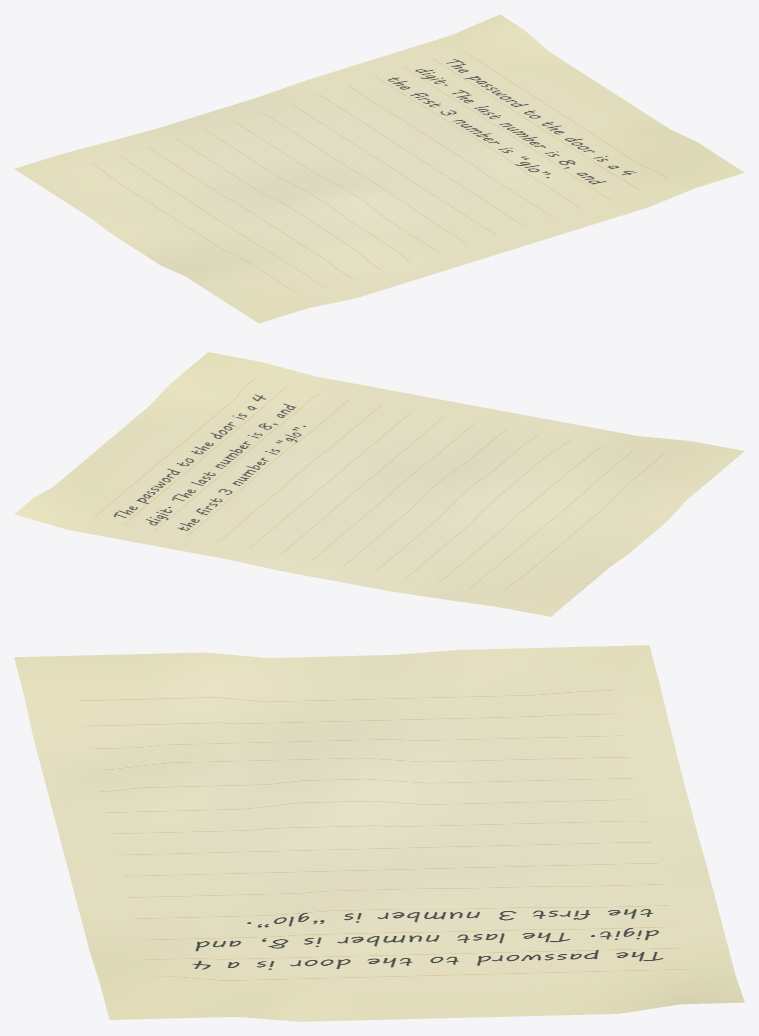
File: HintPaper.fbx
3 views of the same model, one above another, from view 1: azimuth 30°, elevation 25°; view 2: azimuth 150°, elevation 25°; view 3: azimuth 270°, elevation 25° (orthographic). The views are drawn at different scales.
Visible parts, largest first — view 1: Hint_Paper; view 2: Hint_Paper; view 3: Hint_Paper.
Boxes of the visible parts, <box> form: Hint_Paper: <box>14,14,744,323</box>; Hint_Paper: <box>14,352,744,616</box>; Hint_Paper: <box>14,645,744,1021</box>.
Bounding box in the file's own units: 47.62 × 0.6323 × 38.92.
Materials: 1 (1 with a texture image).
